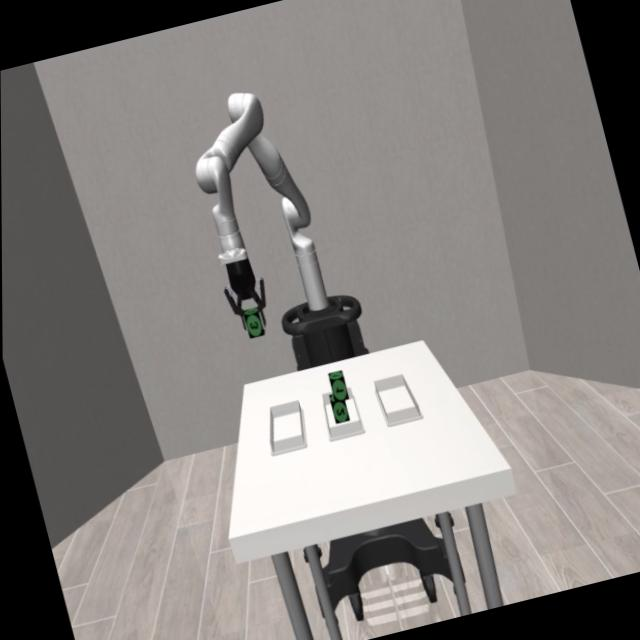cube1: (326, 368, 349, 402)
cube2: (327, 392, 349, 424)
cube3: (241, 306, 265, 340)
